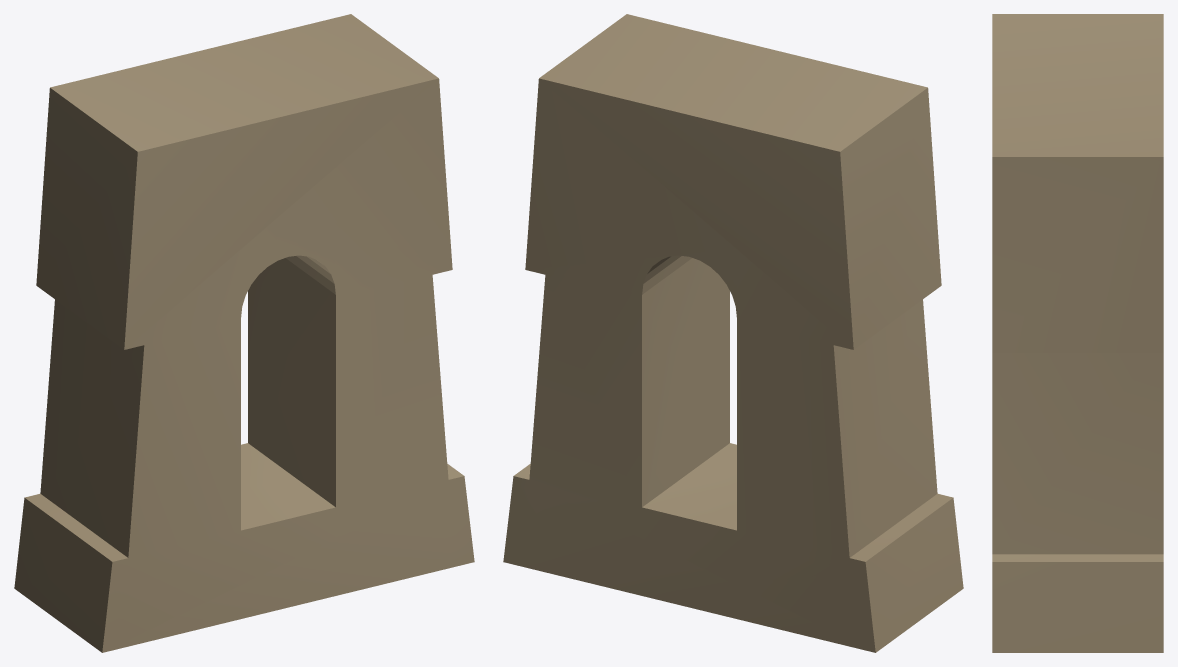
The model's file is ORIGEN_MASTER_LOD1.glb.
3 views of the same model, side by side, from view 1: azimuth 30°, elevation 25°; view 2: azimuth 150°, elevation 25°; view 3: azimuth 270°, elevation 25° (orthographic). The views are drawn at different scales.
Parts seen in each view (by area): view 1: ORIGEN_SYMBOL_Mesh; view 2: ORIGEN_SYMBOL_Mesh; view 3: ORIGEN_SYMBOL_Mesh.
Part boxes in pixels (<box>): ORIGEN_SYMBOL_Mesh: <box>14,14,474,652</box>; ORIGEN_SYMBOL_Mesh: <box>503,14,963,652</box>; ORIGEN_SYMBOL_Mesh: <box>992,14,1163,652</box>.
Size of the model in its own units: 2.2 by 2.78 by 0.9.
